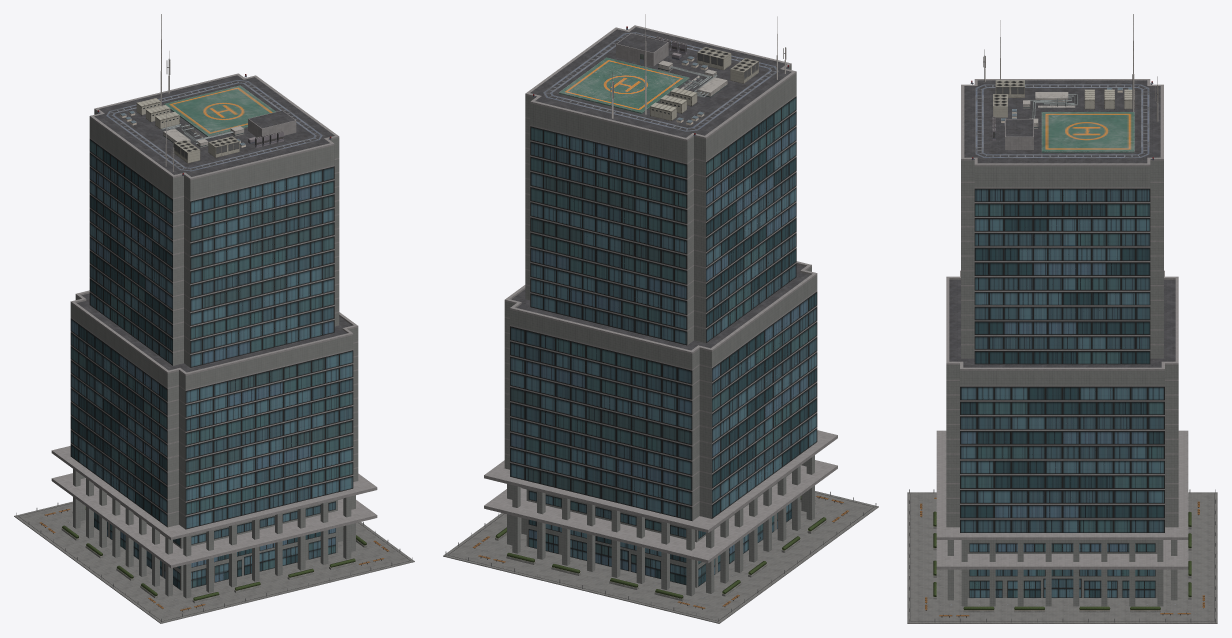
File: jctlowBld50_Eb.fbx
3 views of the same model, side by side, from view 1: azimuth 30°, elevation 25°; view 2: azimuth 150°, elevation 25°; view 3: azimuth 270°, elevation 25° (orthographic). The views are drawn at different scales.
Visible parts, largest first — view 1: jctlowBld50_Eb; view 2: jctlowBld50_Eb; view 3: jctlowBld50_Eb.
Boxes of the visible parts, <box> form: jctlowBld50_Eb: <box>14,14,414,623</box>; jctlowBld50_Eb: <box>443,14,878,623</box>; jctlowBld50_Eb: <box>907,14,1217,623</box>.
Size of the model in its own units: 6000 by 11401 by 6000.
10 materials, 10 textured.
